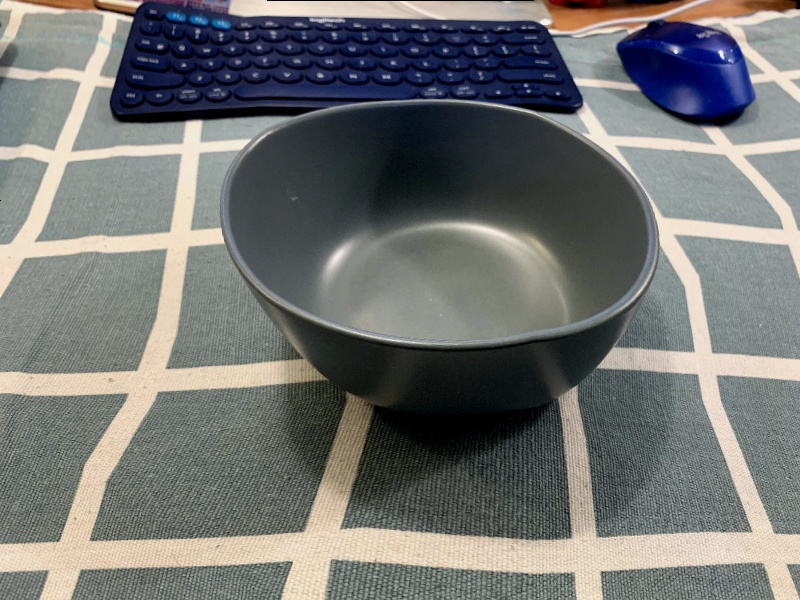bowl_big: (190, 99, 659, 434)
